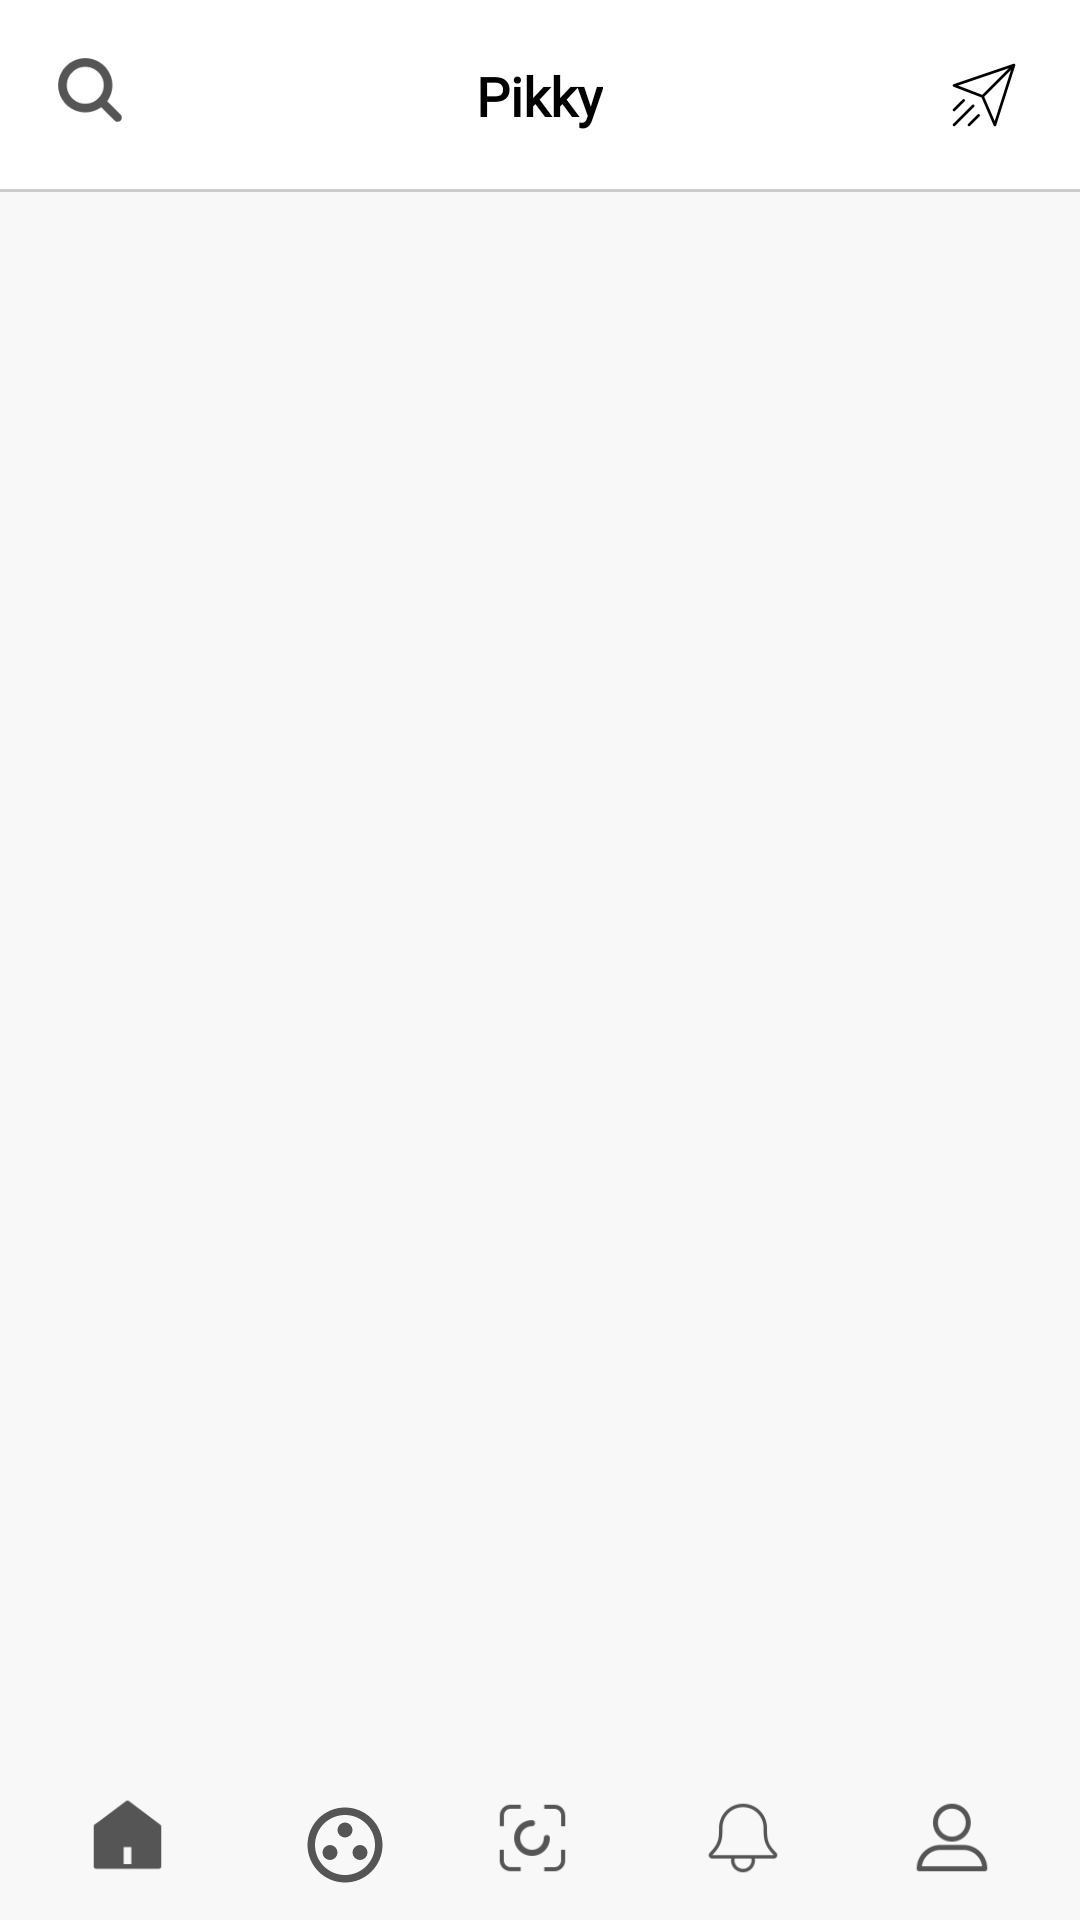

Where icons sit on this 1080px x 1920px app screen, as (x1, y1, x2, y2):
account: (916, 1803, 988, 1872)
camera: (499, 1804, 566, 1872)
home: (93, 1800, 162, 1869)
notifications: (708, 1803, 778, 1873)
search: (58, 58, 122, 122)
